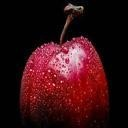apple: (20, 10, 110, 128)
